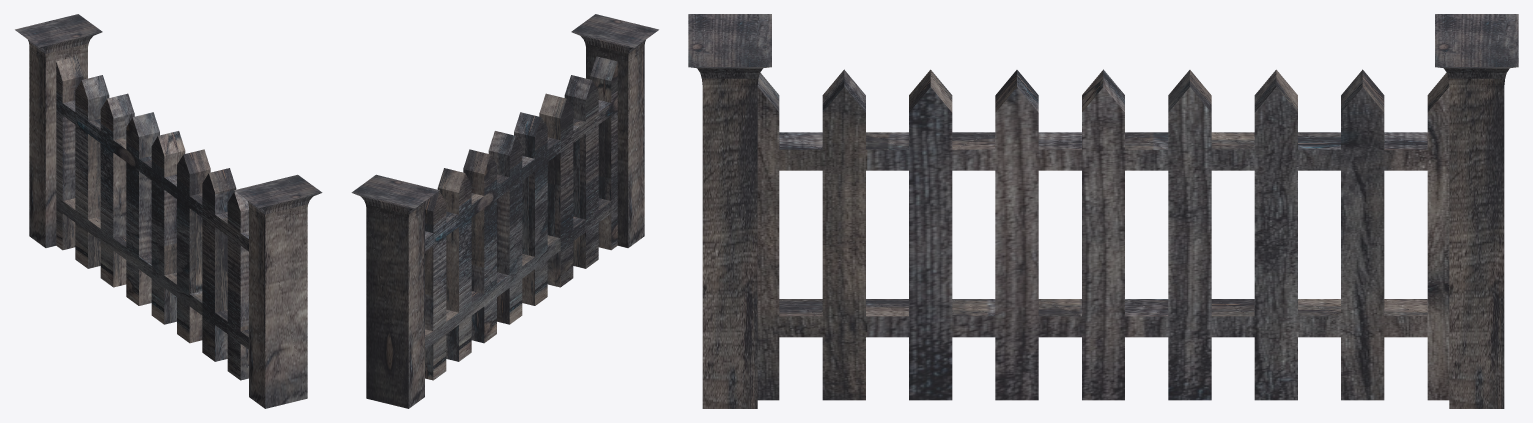
File: wood_fence_1.fbx
The picture shows the model from 3 angles, left to right: view 1: azimuth 30°, elevation 25°; view 2: azimuth 150°, elevation 25°; view 3: azimuth 270°, elevation 25°; orthographic projection. The views are drawn at different scales.
Parts seen in each view (by area): view 1: Fence, Post.001, Post; view 2: Fence, Post, Post.001; view 3: Fence, Post, Post.001.
Boxes of the visible parts, <box> form: Fence: <box>56,56,248,380</box>; Post.001: <box>234,174,322,408</box>; Post: <box>15,14,102,247</box>; Fence: <box>425,56,617,380</box>; Post: <box>351,174,439,408</box>; Post.001: <box>571,14,658,247</box>; Fence: <box>757,69,1449,400</box>; Post: <box>1435,14,1518,408</box>; Post.001: <box>688,14,771,408</box>.
Bounding box in the file's own units: 182 × 560 × 1201.
1 material, 1 textured.
